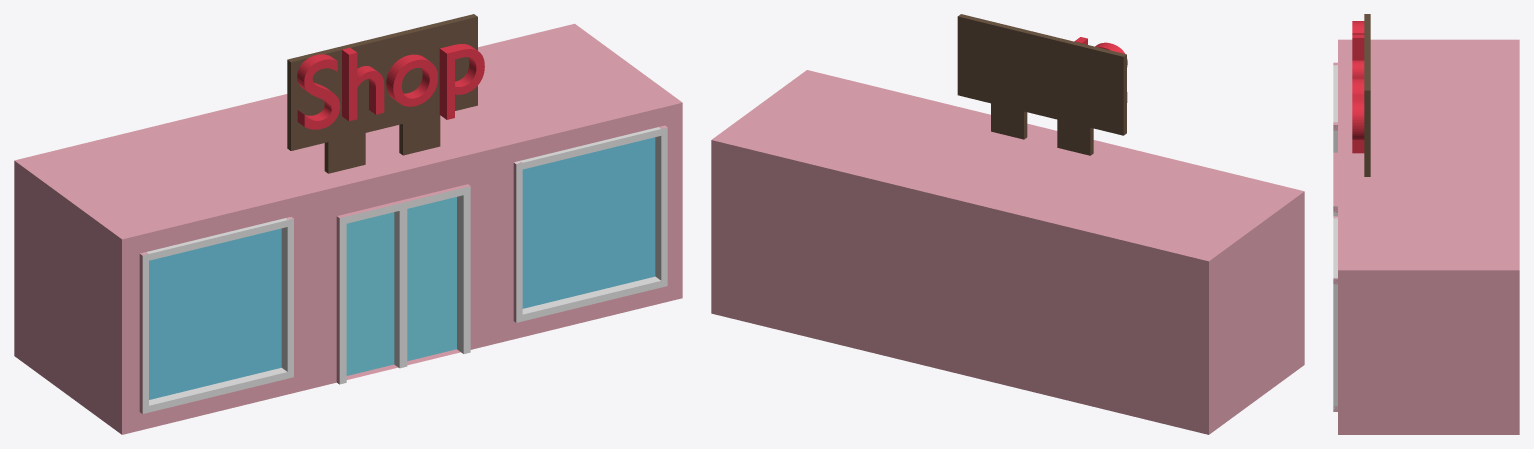
The model's file is shop2 1.fbx.
The picture shows the model from 3 angles, left to right: view 1: azimuth 30°, elevation 25°; view 2: azimuth 150°, elevation 25°; view 3: azimuth 270°, elevation 25°; orthographic projection. The views are drawn at different scales.
Parts seen in each view (by area): view 1: Cube, Cube.002, Cube.001, Cube.004, Cube.003, Cube.005, Cube.007, Text, Cube.006; view 2: Cube, Cube.002, Cube.001, Cube.007; view 3: Cube.002, Cube.001, Cube, Text, Cube.007.
Part boxes in pixels (box(x1,y1,x2,y2)): Cube: box(14, 115, 308, 434); Cube.002: box(455, 23, 682, 343); Cube.001: box(201, 94, 495, 389); Cube.004: box(522, 137, 655, 308); Cube.003: box(149, 228, 281, 399); Cube.005: box(346, 197, 456, 375); Cube.007: box(287, 14, 477, 173); Text: box(297, 44, 484, 129); Cube.006: box(394, 209, 407, 368); Cube: box(1043, 151, 1304, 434); Cube.002: box(711, 70, 972, 353); Cube.001: box(877, 110, 1138, 394); Cube.007: box(957, 14, 1126, 155); Cube.002: box(1333, 193, 1519, 434); Cube.001: box(1333, 116, 1519, 216); Cube: box(1333, 39, 1519, 152); Text: box(1352, 21, 1364, 153); Cube.007: box(1364, 14, 1370, 176).
Bounding box in the file's own units: 600 × 325 × 205.
